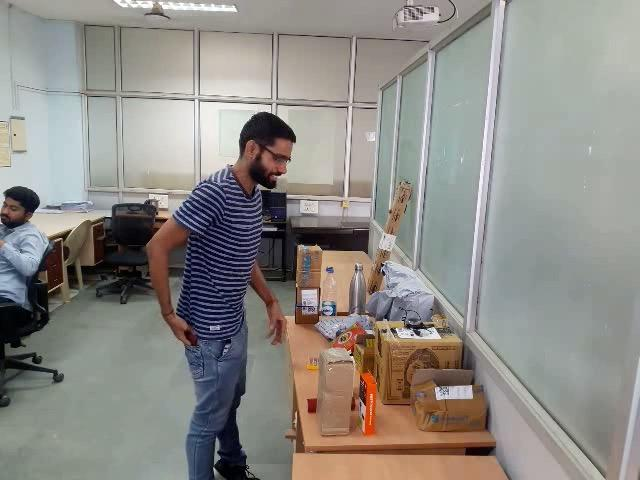shoplifting: (155, 305, 210, 390)
